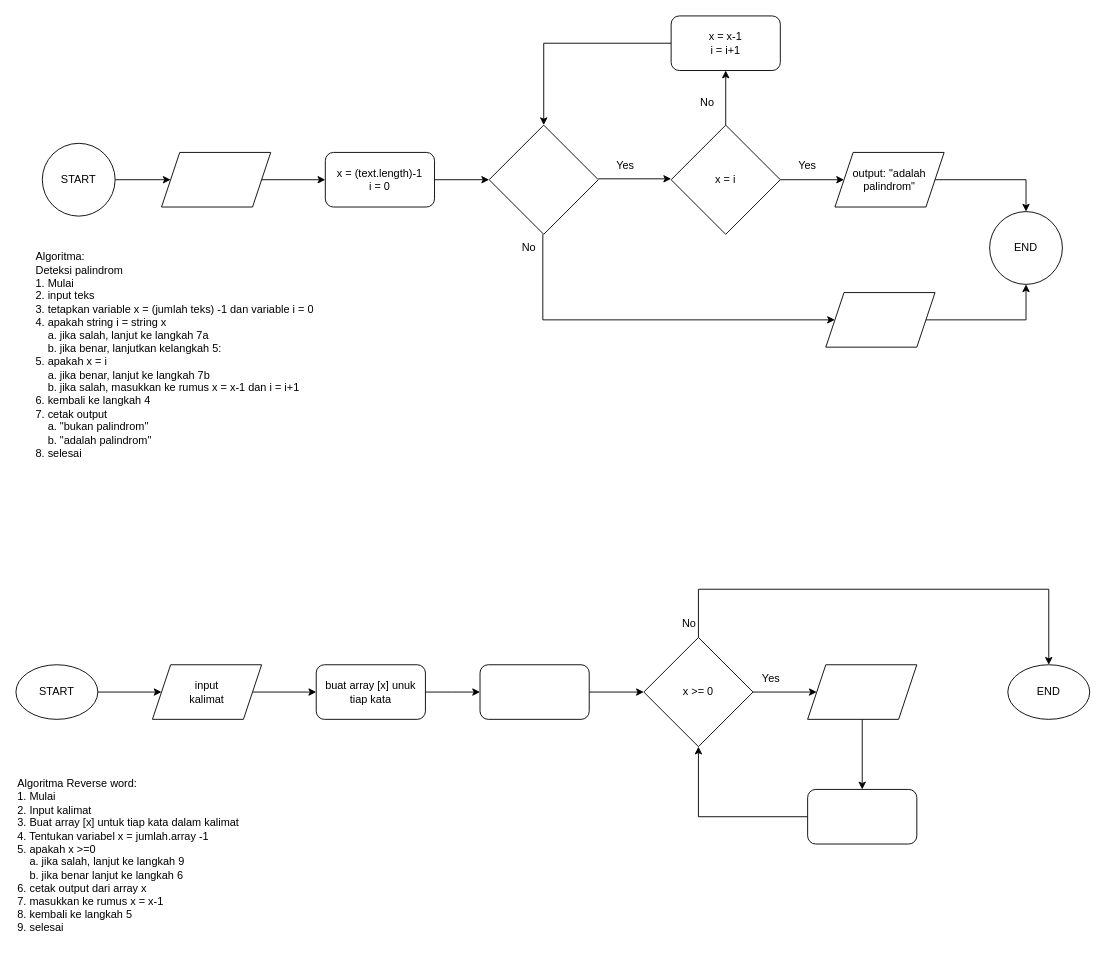
The diagram is 1106 pixels wide and 969 high, and some of its shapes have lost their labels. Here are the shapes that lost their labels. From the top down, the centre of each, then its label:
[216,179]: input text
[543,179]: text [x] = text [i]?
[880,319]: output: "bukan palindrom"
[534,691]: x= jumlah.array-1
[862,691]: output array [x]
[862,816]: x = x-1
